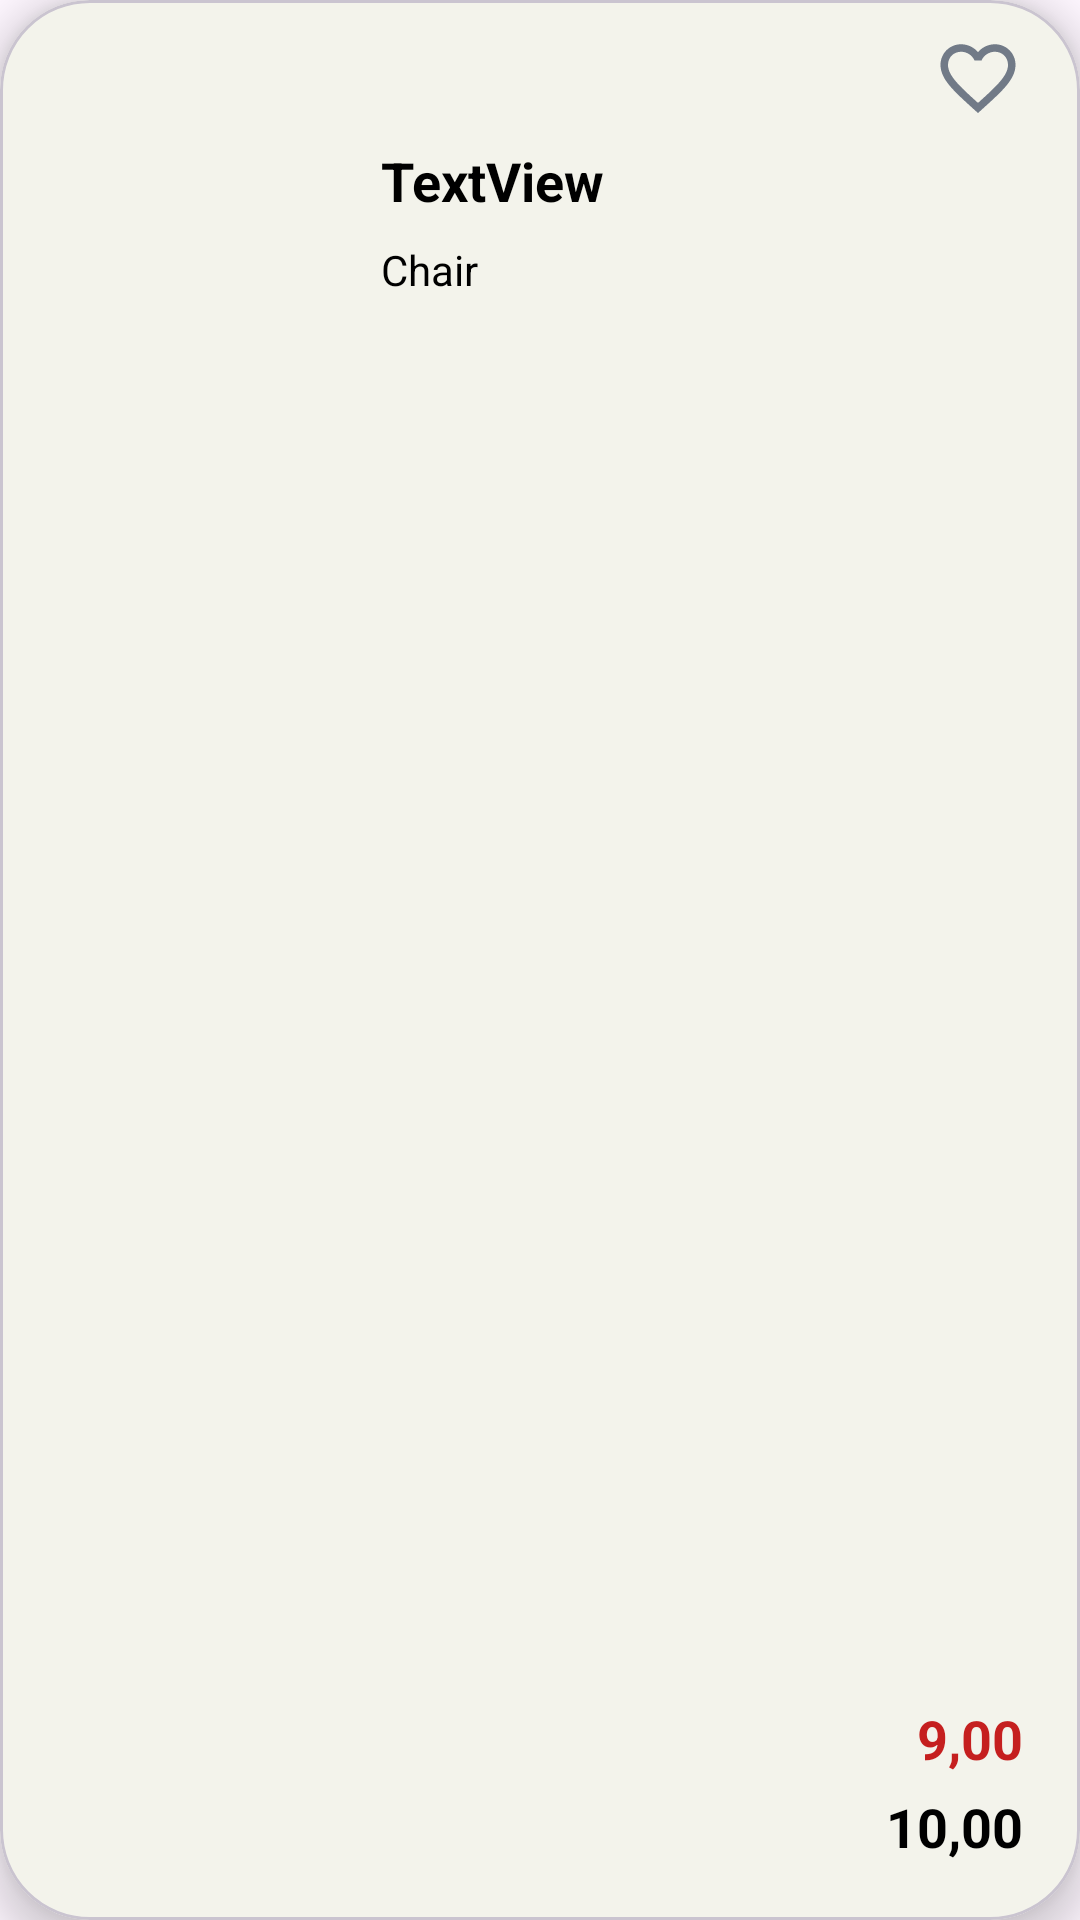

Named icons in this screenshot (1080 x 1920) and their centers, [x,y]:
fav: [978,78]
